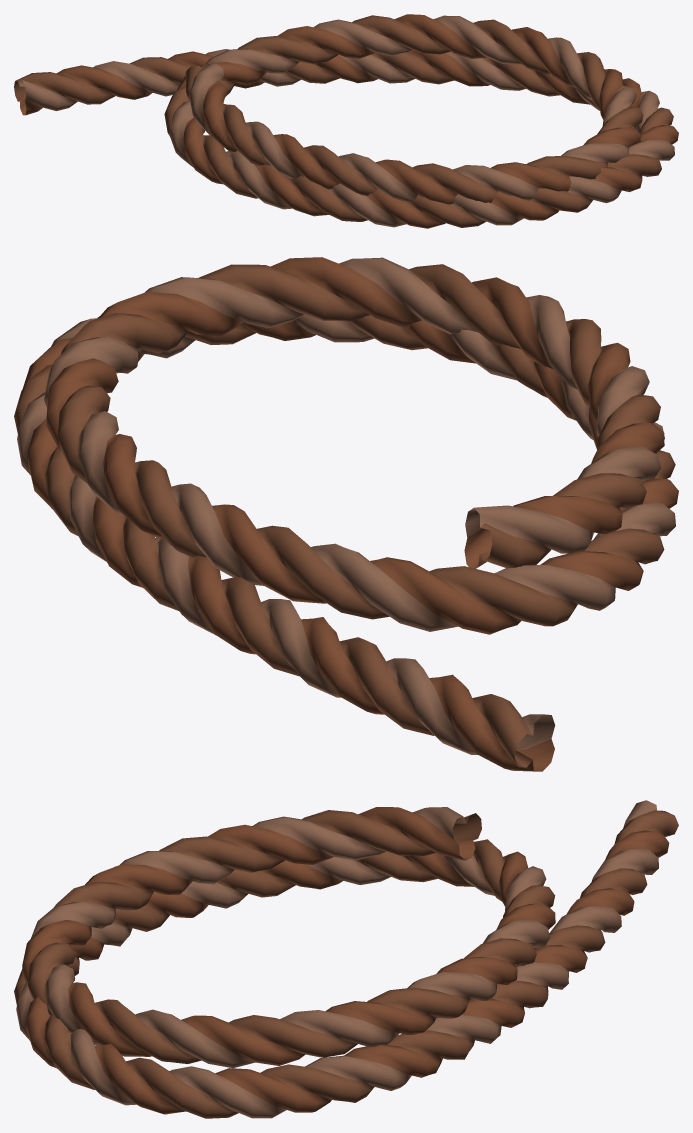
Rendered from Rope1.fbx.
3 views of the same model, one above another, from view 1: azimuth 30°, elevation 25°; view 2: azimuth 150°, elevation 25°; view 3: azimuth 270°, elevation 25° (orthographic). The views are drawn at different scales.
Parts seen in each view (by area): view 1: Circle.001; view 2: Circle.001; view 3: Circle.001.
Boxes of the visible parts, x1=… form: Circle.001: x1=14, y1=14, x2=678, y2=228; Circle.001: x1=14, y1=257, x2=678, y2=771; Circle.001: x1=14, y1=800, x2=678, y2=1118.
Bounding box in the file's own units: 6.15 × 6.02 × 0.9997.
